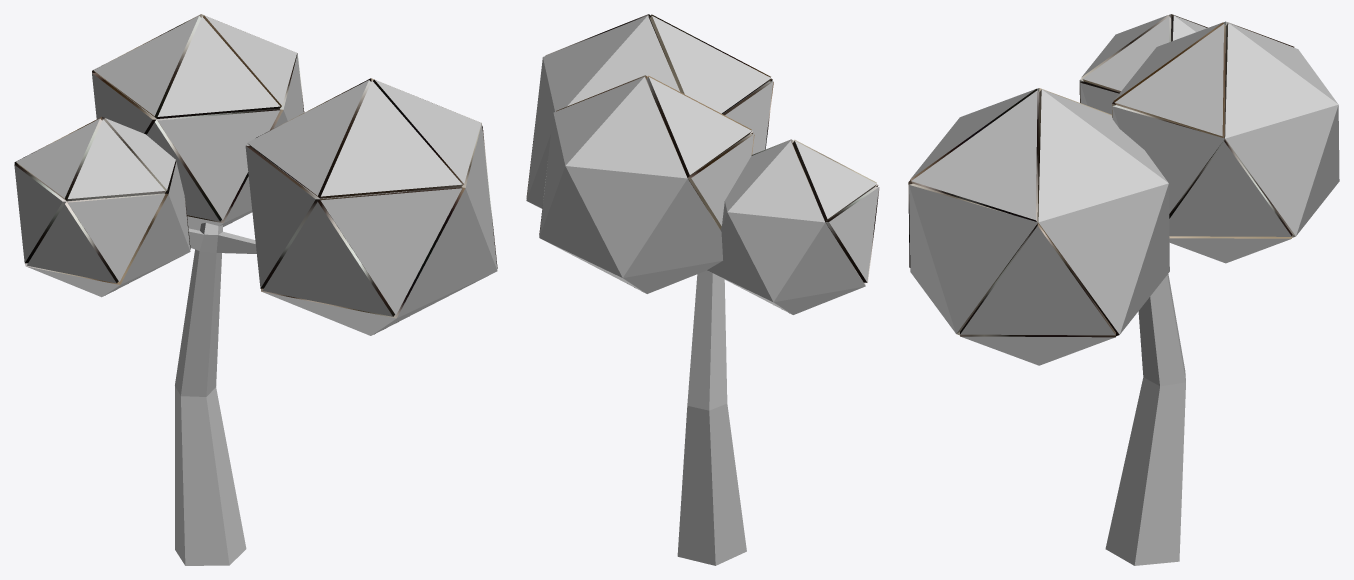
File: Tree1.fbx
3 renders of one model, left to right at view 1: azimuth 30°, elevation 25°; view 2: azimuth 150°, elevation 25°; view 3: azimuth 270°, elevation 25°, orthographic. The views are drawn at different scales.
Parts seen in each view (by area): view 1: Tree1; view 2: Tree1; view 3: Tree1.
Boxes of the visible parts, <box> form: Tree1: <box>14,14,497,565</box>; Tree1: <box>526,14,879,565</box>; Tree1: <box>908,14,1339,565</box>.
Size of the model in its own units: 1671 by 2045 by 1465.
